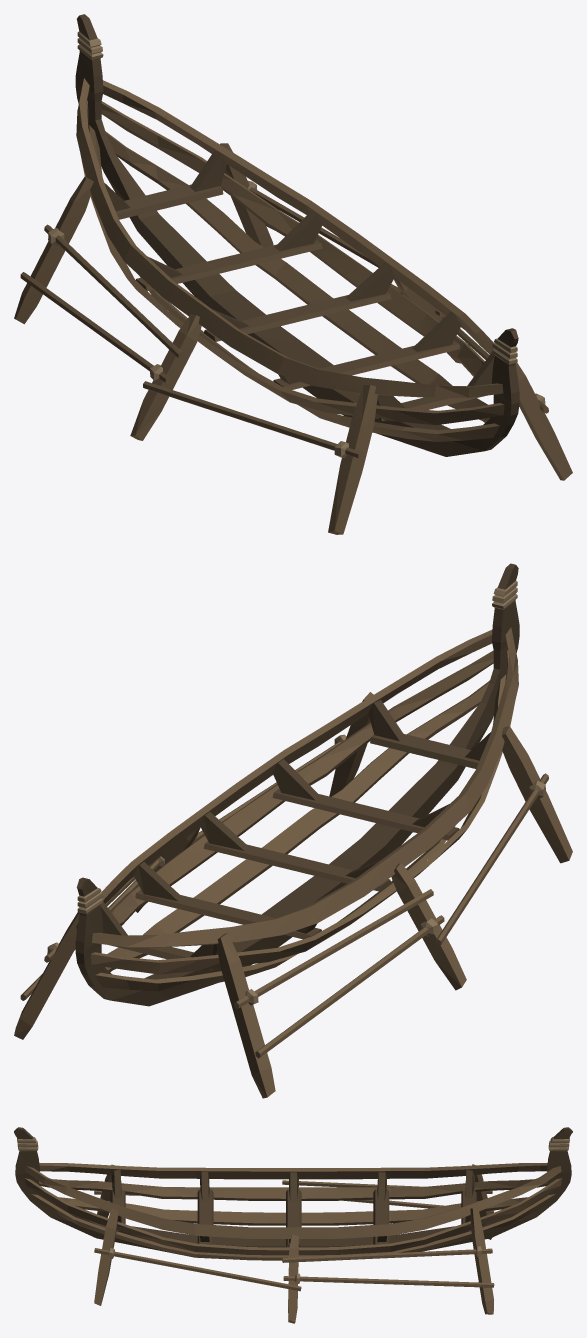
The model's file is Barco_construccion.glb.
3 renders of one model, top to bottom at view 1: azimuth 30°, elevation 25°; view 2: azimuth 150°, elevation 25°; view 3: azimuth 270°, elevation 25°, orthographic. The views are drawn at different scales.
Visible parts, largest first — view 1: SM_Prop_Boat_Build_01; view 2: SM_Prop_Boat_Build_01; view 3: SM_Prop_Boat_Build_01.
Part boxes in pixels (left/top/right/bottom): SM_Prop_Boat_Build_01: left=14, top=14, right=572, bottom=534; SM_Prop_Boat_Build_01: left=14, top=563, right=572, bottom=1098; SM_Prop_Boat_Build_01: left=14, top=1127, right=572, bottom=1323.
Bounding box in the file's own units: 3.95 × 2.66 × 9.02.
Materials: 1 (1 with a texture image).
